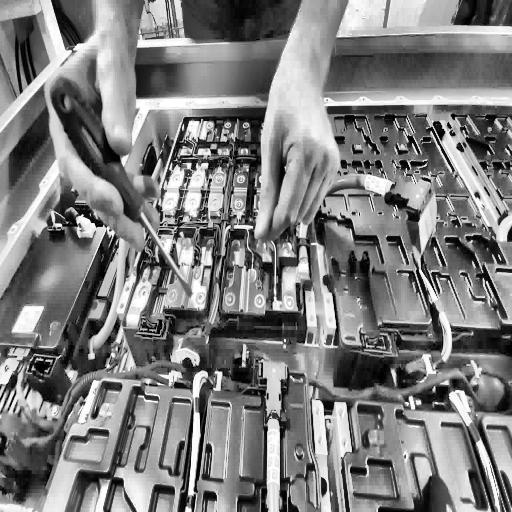high_volt_cable: (296, 166, 440, 281)
low_volt_cable: (183, 136, 240, 512), (15, 352, 196, 435)
nut: (196, 291, 206, 308), (254, 294, 264, 308), (286, 295, 295, 310), (235, 196, 244, 210), (189, 197, 198, 211), (210, 198, 220, 210), (167, 290, 177, 302), (51, 402, 59, 416), (236, 174, 246, 184), (194, 173, 203, 184), (206, 120, 213, 132), (224, 120, 232, 130), (216, 174, 223, 185), (226, 295, 234, 304), (242, 121, 250, 128)
